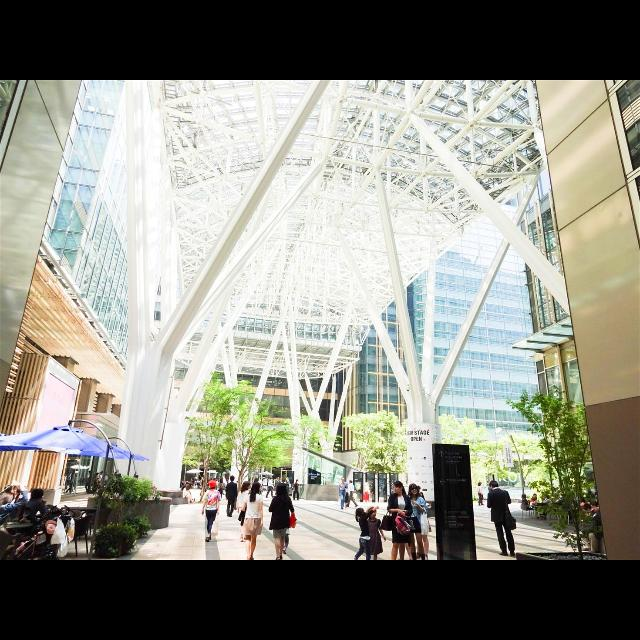head: (31, 490, 43, 502), (392, 482, 403, 494), (252, 483, 262, 493), (277, 484, 287, 494), (409, 484, 419, 494), (489, 481, 499, 491), (368, 508, 377, 518), (356, 508, 364, 518), (592, 502, 600, 512), (244, 482, 252, 491), (210, 481, 218, 489), (283, 510, 289, 516), (230, 476, 236, 482), (187, 485, 191, 491), (522, 494, 526, 500), (296, 480, 300, 484), (270, 477, 274, 481), (349, 480, 353, 484), (478, 482, 482, 486), (534, 494, 536, 500), (258, 478, 262, 480), (253, 478, 255, 482), (342, 478, 344, 482), (220, 480, 223, 482)
person: (487, 479, 518, 559), (18, 488, 62, 544), (200, 479, 223, 543), (235, 482, 257, 544), (582, 499, 604, 553), (277, 504, 291, 556), (224, 476, 240, 518), (337, 477, 349, 511), (520, 494, 536, 518), (528, 492, 540, 520), (348, 480, 358, 510), (182, 484, 196, 504), (475, 481, 485, 507), (292, 479, 302, 503), (266, 476, 276, 500), (218, 480, 226, 502), (250, 477, 258, 495), (258, 476, 264, 496)
